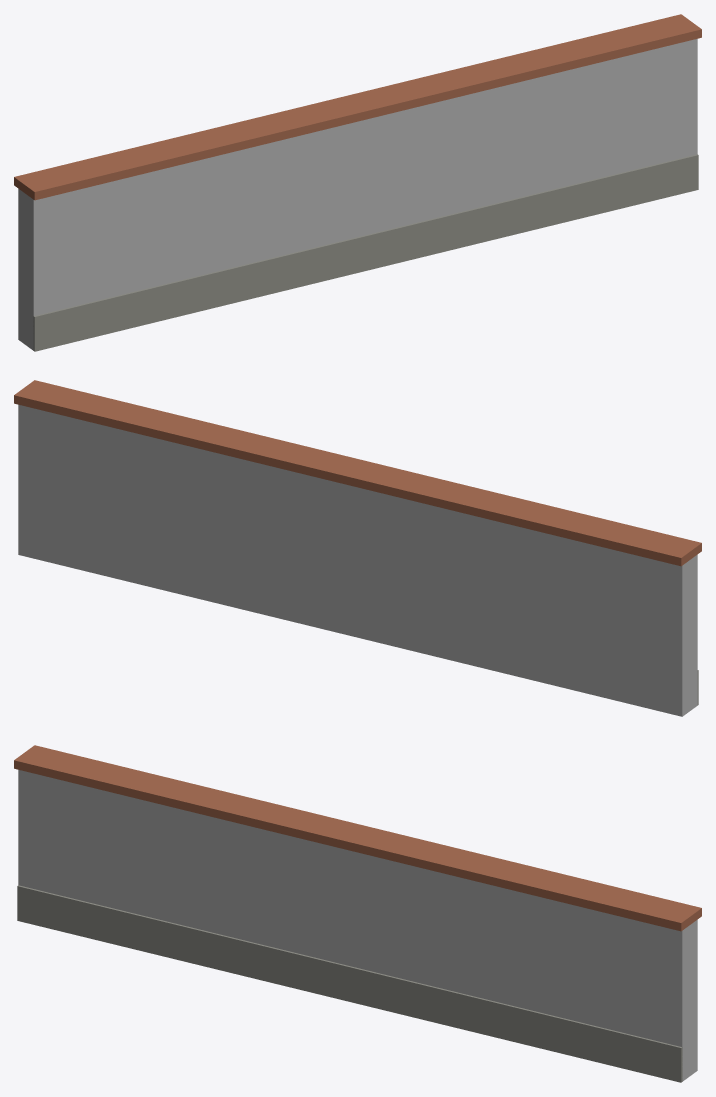
File: SM_Tapia_v0_Recto_LOD0.fbx
3 renders of one model, top to bottom at view 1: azimuth 30°, elevation 25°; view 2: azimuth 150°, elevation 25°; view 3: azimuth 330°, elevation 25°, orthographic.
Parts seen in each view (by area): view 1: SM_bloques.viveres_nules_v5_LOD0; view 2: SM_bloques.viveres_nules_v5_LOD0; view 3: SM_bloques.viveres_nules_v5_LOD0.
Part boxes in pixels (x1,y1,x2,y2): SM_bloques.viveres_nules_v5_LOD0: (14, 14, 701, 351); SM_bloques.viveres_nules_v5_LOD0: (14, 380, 701, 716); SM_bloques.viveres_nules_v5_LOD0: (14, 745, 701, 1082).
Bounding box in the file's own units: 10.05 × 2.32 × 0.54.
